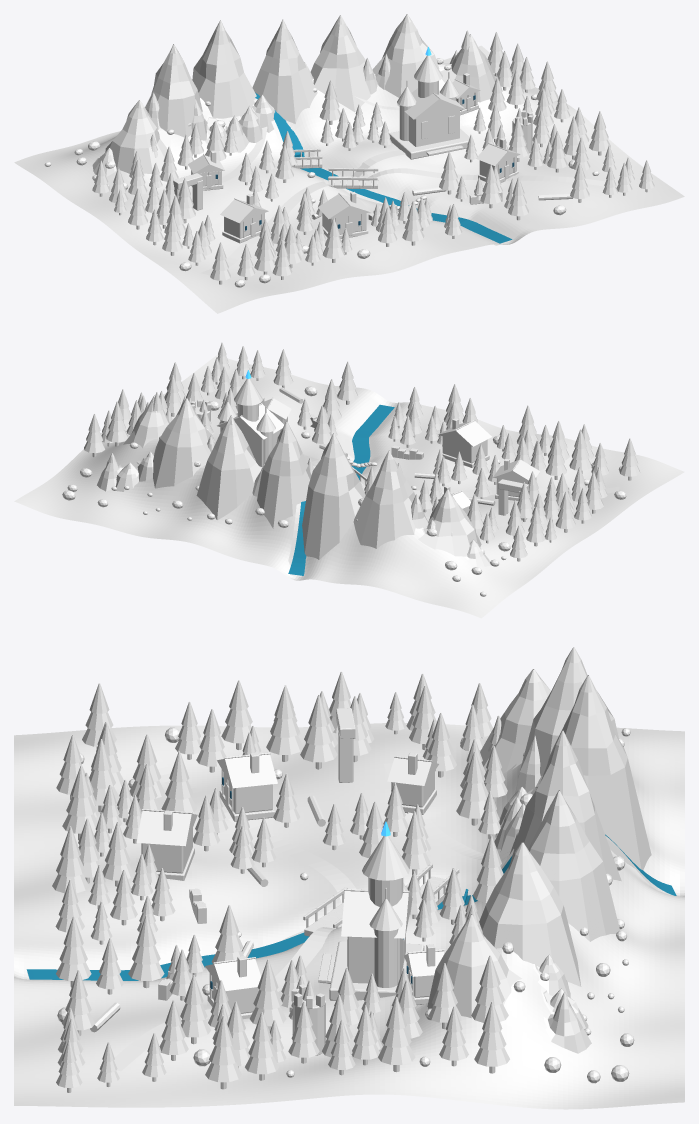
The model's file is mountain-region-detailed.glb.
The picture shows the model from 3 angles, top to bottom: view 1: azimuth 30°, elevation 25°; view 2: azimuth 150°, elevation 25°; view 3: azimuth 270°, elevation 25°; orthographic projection. The views are drawn at different scales.
Visible parts, largest first — view 1: Detailed Alpine Mountain Terrain, High Crown Peak, Silver Needle Peak, Twin Moon Peak, Frostfang Peak, Western Sentinel Peak, Eastern Rampart Peak, Watcher's Peak, Cold mountain river, Monastery great hall, Mountain trail 1, Mountain trail 2 (+10 smaller); view 2: Detailed Alpine Mountain Terrain, High Crown Peak, Twin Moon Peak, Frostfang Peak, Silver Needle Peak, Eastern Rampart Peak, Western Sentinel Peak, Cold mountain river, Watcher's Peak, South Pass Lodge roof, Monastery blue roof, South Pass Lodge walls (+5 smaller); view 3: Detailed Alpine Mountain Terrain, High Crown Peak, Eastern Rampart Peak, Twin Moon Peak, Silver Needle Peak, Watcher's Peak, Frostfang Peak, Western Sentinel Peak, Mountain trail 1, Monastery blue roof, Cold mountain river, Mountain trail 2 (+19 smaller).
Boxes of the visible parts, left/top/right/bottom form: Detailed Alpine Mountain Terrain: left=14, top=45, right=684, bottom=313; High Crown Peak: left=192, top=20, right=256, bottom=118; Silver Needle Peak: left=252, top=19, right=317, bottom=123; Twin Moon Peak: left=310, top=15, right=375, bottom=112; Frostfang Peak: left=145, top=44, right=202, bottom=137; Western Sentinel Peak: left=105, top=100, right=170, bottom=174; Eastern Rampart Peak: left=372, top=14, right=439, bottom=97; Watcher's Peak: left=440, top=34, right=495, bottom=102; Cold mountain river: left=255, top=92, right=512, bottom=243; Monastery great hall: left=408, top=110, right=459, bottom=146; Mountain trail 1: left=200, top=150, right=405, bottom=275; Mountain trail 2: left=323, top=168, right=605, bottom=189; Detailed Alpine Mountain Terrain: left=14, top=354, right=684, bottom=618; High Crown Peak: left=302, top=433, right=365, bottom=559; Twin Moon Peak: left=196, top=415, right=261, bottom=520; Frostfang Peak: left=353, top=450, right=415, bottom=548; Silver Needle Peak: left=257, top=421, right=311, bottom=528; Eastern Rampart Peak: left=153, top=398, right=212, bottom=488; Western Sentinel Peak: left=418, top=489, right=481, bottom=556; Cold mountain river: left=288, top=404, right=394, bottom=575; Watcher's Peak: left=123, top=395, right=169, bottom=448; South Pass Lodge roof: left=438, top=421, right=491, bottom=446; Monastery blue roof: left=217, top=404, right=283, bottom=439; South Pass Lodge walls: left=442, top=436, right=487, bottom=463; Detailed Alpine Mountain Terrain: left=14, top=723, right=684, bottom=1109; High Crown Peak: left=547, top=675, right=651, bottom=869; Eastern Rampart Peak: left=479, top=842, right=581, bottom=986; Twin Moon Peak: left=528, top=790, right=619, bottom=941; Silver Needle Peak: left=511, top=730, right=621, bottom=881; Watcher's Peak: left=427, top=914, right=521, bottom=1018; Frostfang Peak: left=518, top=647, right=618, bottom=777; Western Sentinel Peak: left=480, top=669, right=550, bottom=773; Mountain trail 1: left=133, top=749, right=356, bottom=903; Monastery blue roof: left=341, top=891, right=412, bottom=938; Cold mountain river: left=26, top=834, right=676, bottom=980; Mountain trail 2: left=114, top=927, right=335, bottom=1071.
Bounding box in the file's own units: 24.4 × 6.65 × 18.4.
